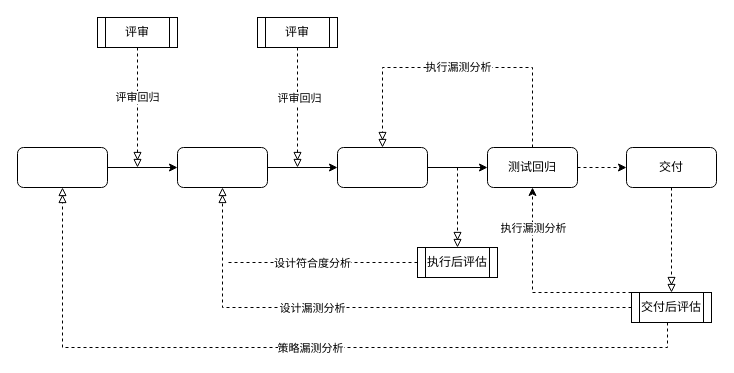
Some shapes in this 734 by 373 pixel diagram are drawn without their labels. The shapes that lost their labels are listed below. From the top down, each one's centre as x and y in pixels, then its label:
pixel 62 167: 测试计划与策略
pixel 222 167: 测试设计
pixel 382 167: 测试执行
